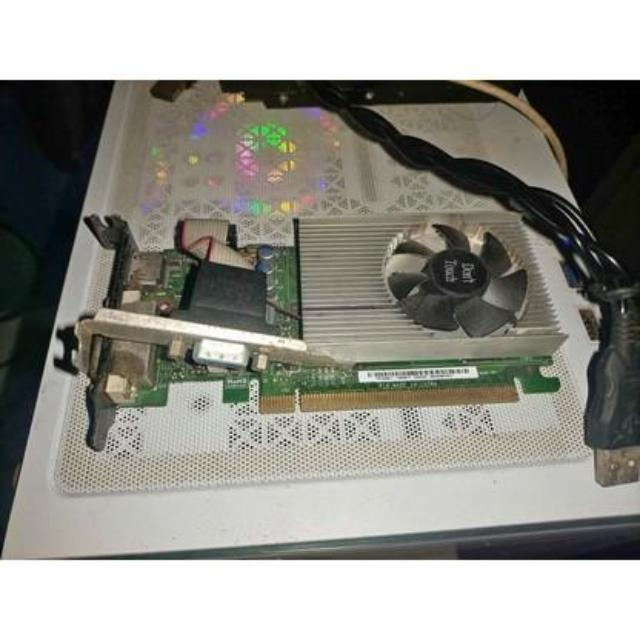GPU: (99, 198, 574, 422)
